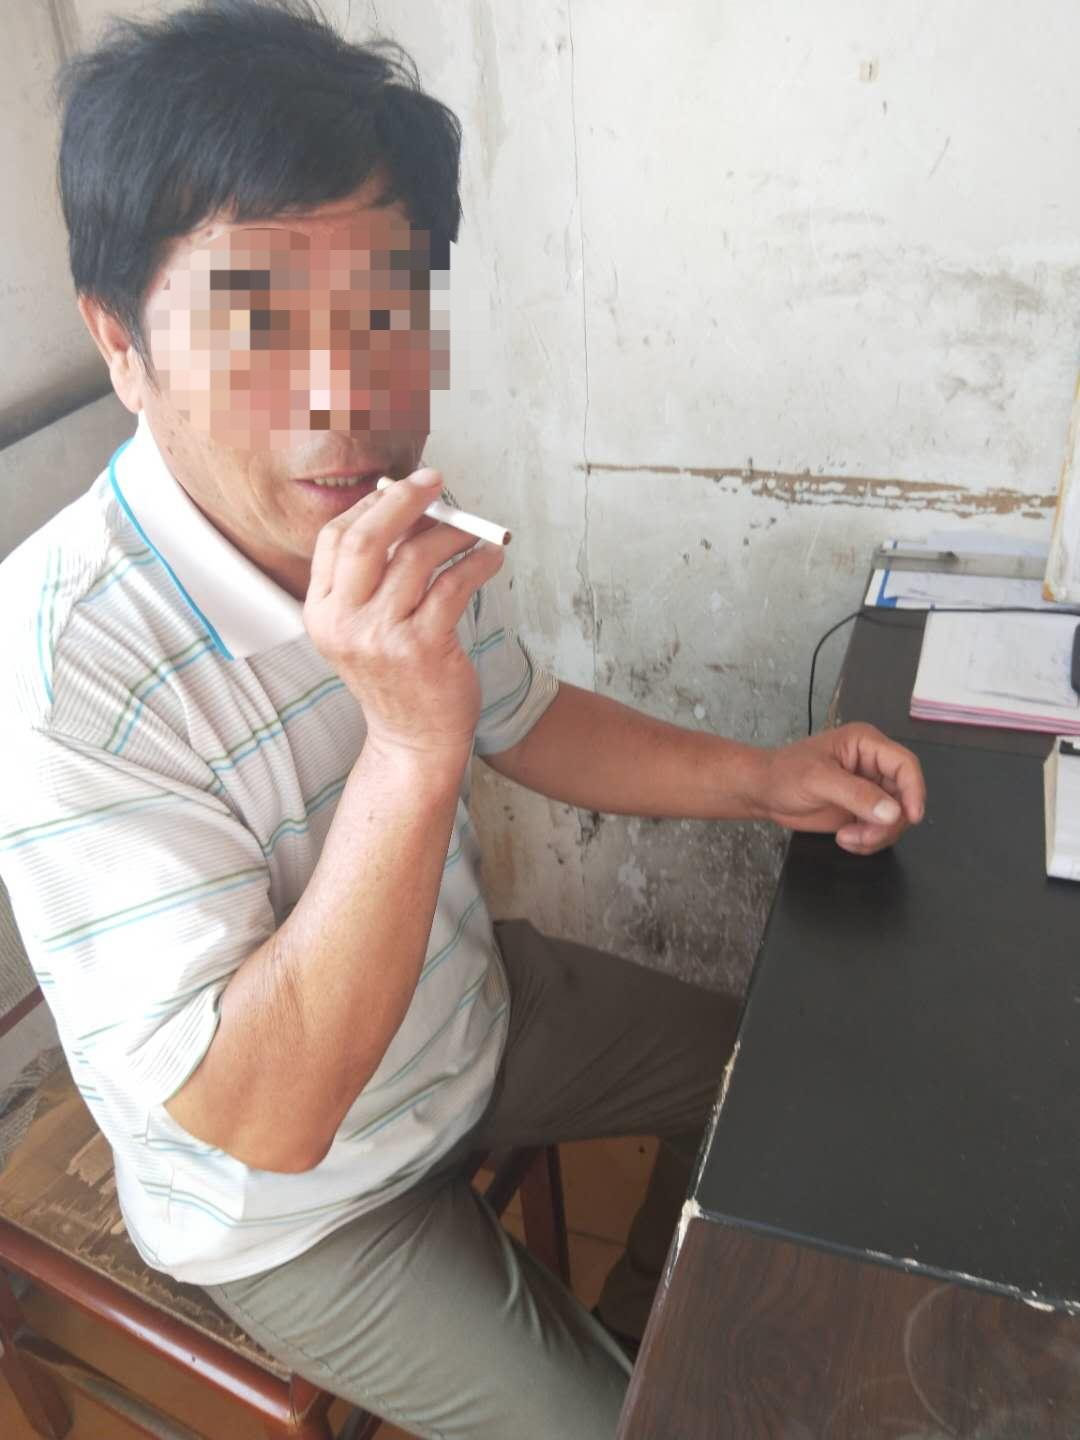smoke: (376, 475, 514, 554)
